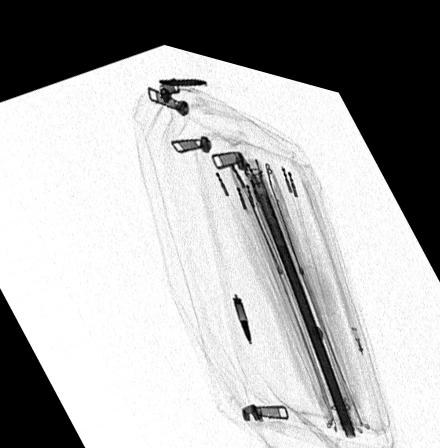Bullet: (231, 284, 251, 330)
